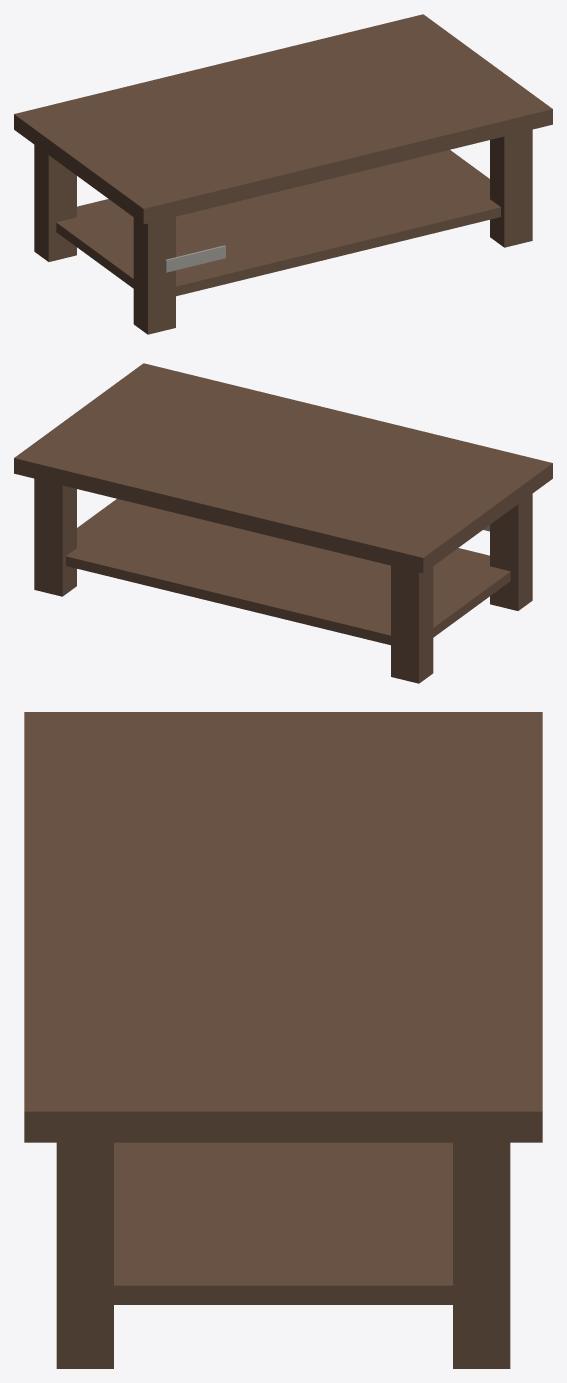
The model's file is main-coffee-table.glb.
3 views of the same model, one above another, from view 1: azimuth 30°, elevation 25°; view 2: azimuth 150°, elevation 25°; view 3: azimuth 270°, elevation 25° (orthographic). The views are drawn at different scales.
Parts seen in each view (by area): view 1: wood, brushed; view 2: wood; view 3: wood.
Boxes of the visible parts, bbox=[...] form: wood: bbox=[14, 14, 552, 334]; brushed: bbox=[165, 245, 225, 272]; wood: bbox=[14, 363, 552, 683]; wood: bbox=[24, 712, 542, 1368].
Bounding box in the file's own units: 1.24 × 0.39 × 0.68.
